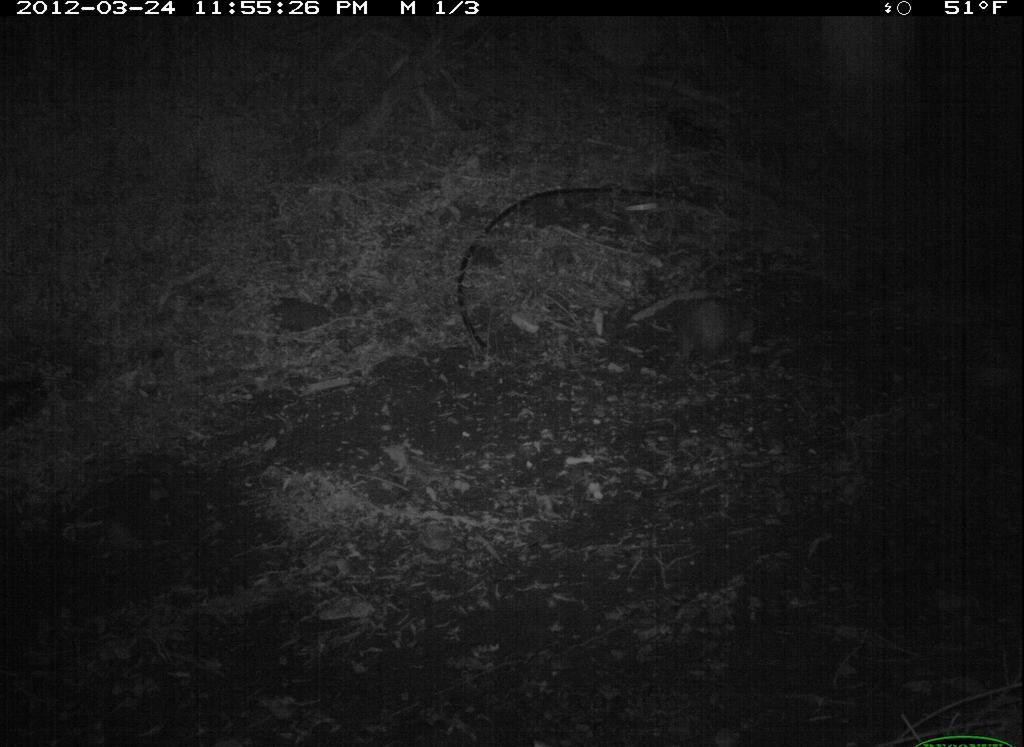opossum: (642, 282, 781, 383)
